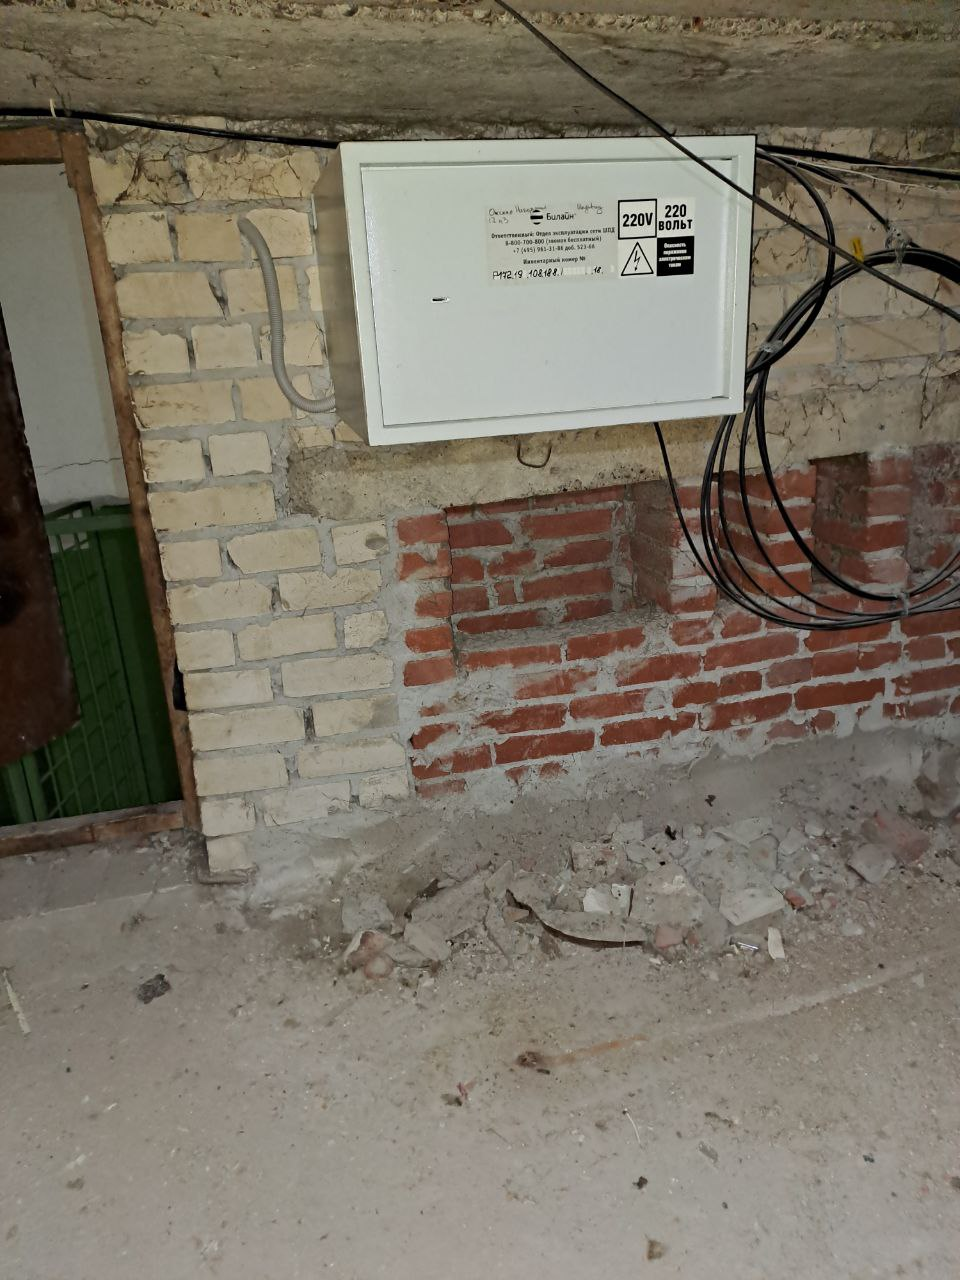shta-7m: (302, 135, 761, 453)
